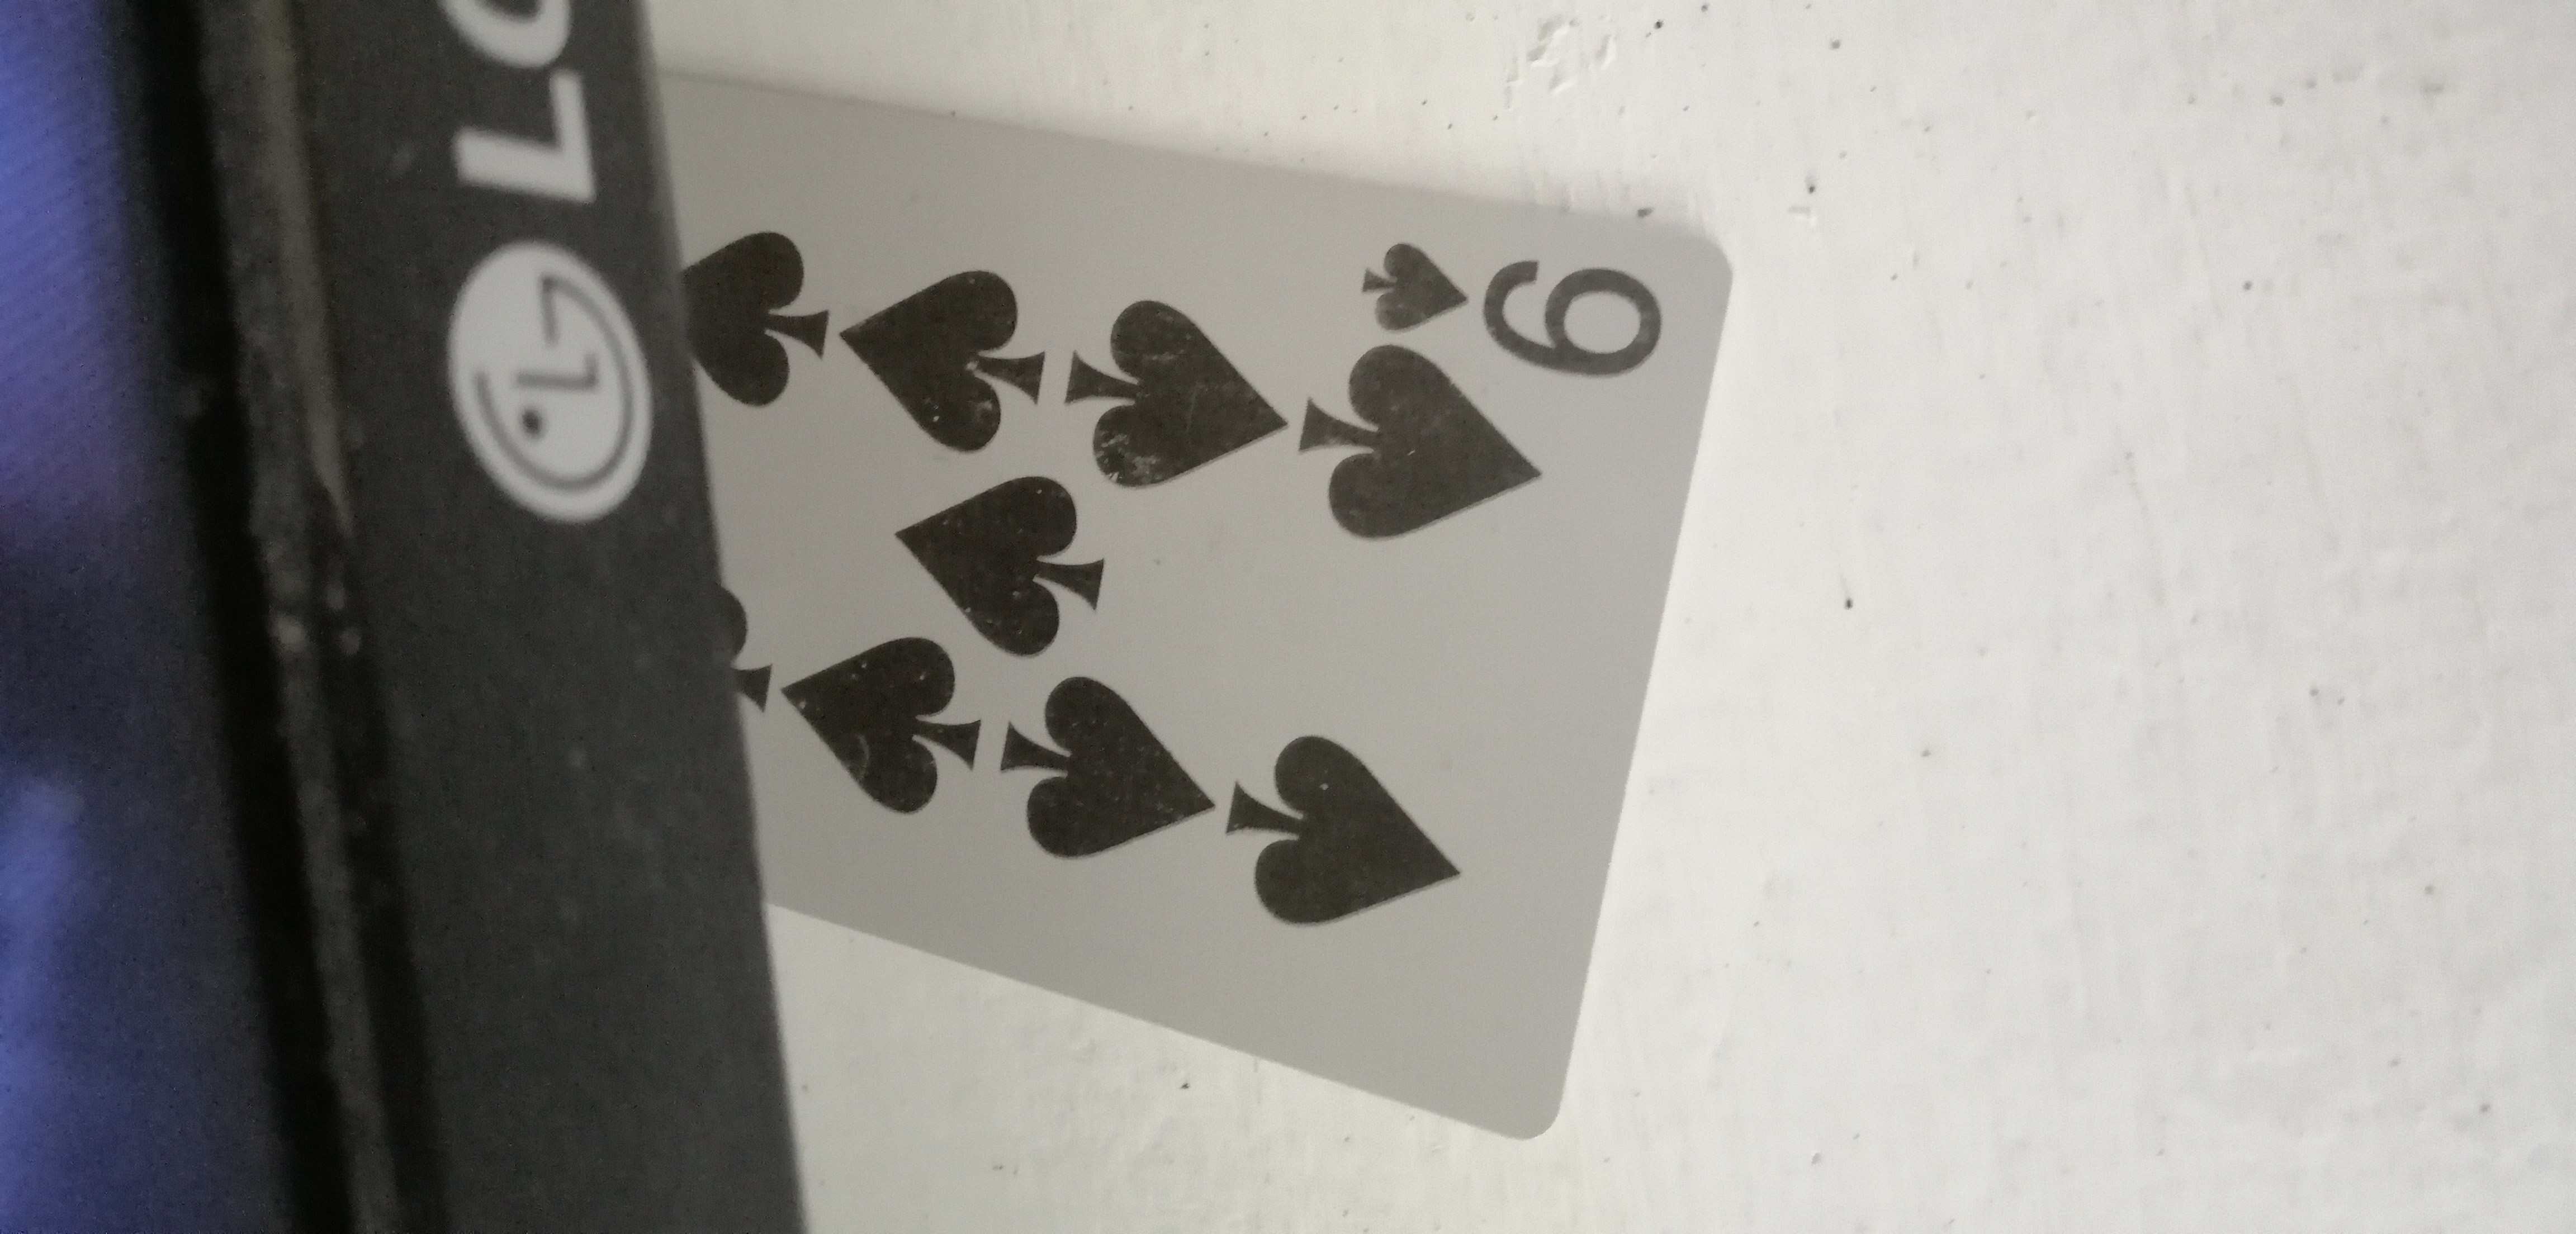nine: (614, 56, 1748, 1153)
